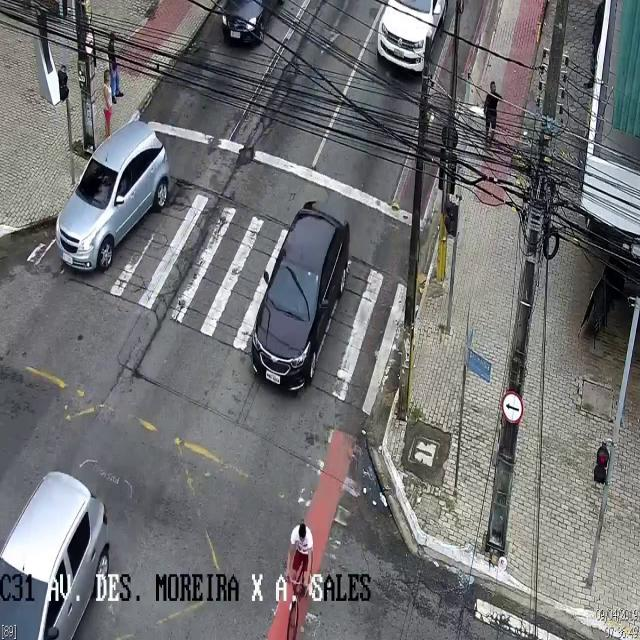Car: (0, 446, 130, 640), (251, 203, 351, 391), (56, 120, 170, 275), (376, 0, 441, 76), (221, 1, 283, 45)
